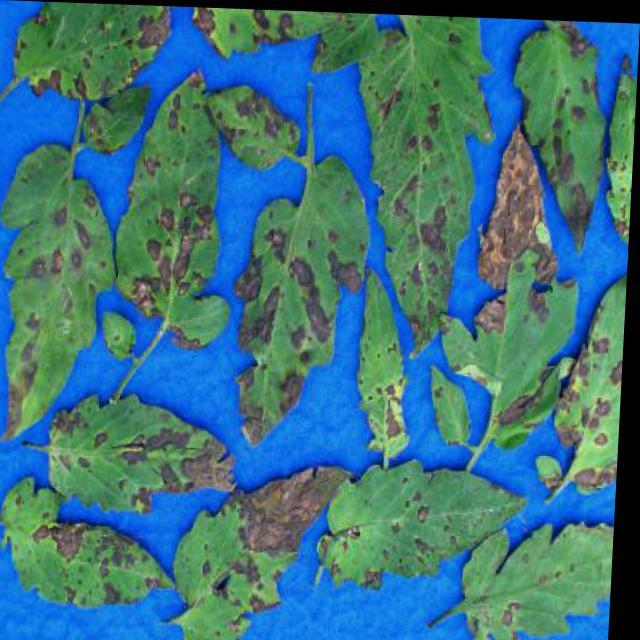Tomato Early blight leaf: (335, 12, 493, 381), (232, 146, 373, 444), (0, 136, 118, 450), (120, 55, 242, 342), (175, 455, 362, 639), (49, 388, 252, 514), (506, 17, 614, 248), (317, 458, 525, 574), (455, 497, 620, 639), (0, 484, 182, 611), (553, 258, 630, 510), (7, 2, 173, 116), (356, 264, 424, 462), (591, 18, 639, 254), (170, 6, 346, 56), (426, 349, 490, 456), (84, 84, 148, 160)
